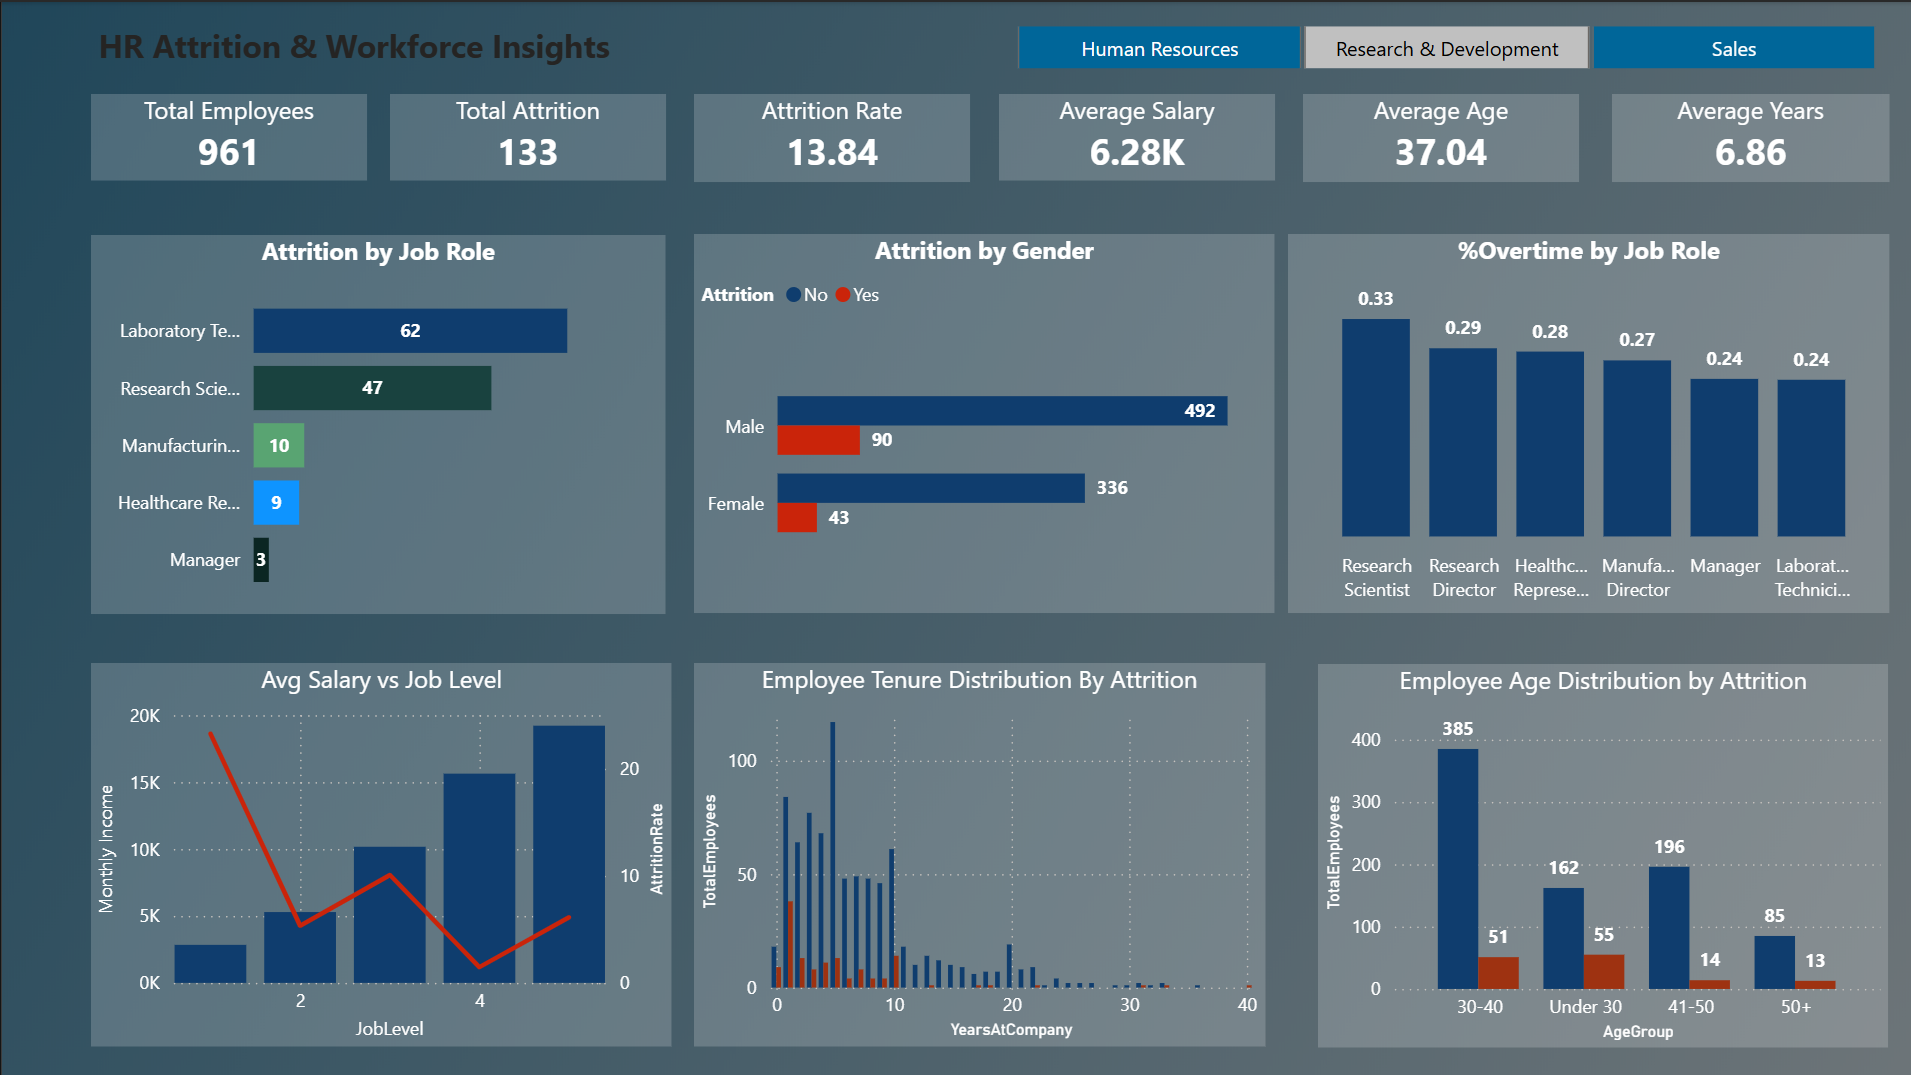

The dashboard page shown, as its layout file describes it:
{"tool":"powerbi","page":{"name":"HR attrition","canvas":[1280,720],"ordinal":0},"visuals":[{"type":"card","title":"Total Employees","fields":{"Values":["HR_DATA.TotalEmployees"]},"box":[59.7,61.4,184.9,57.9],"z":0},{"type":"card","title":"Attrition Rate","fields":{"Values":["HR_DATA.AttritionRate"]},"box":[463.6,61.4,184.9,58.8],"z":1000},{"type":"card","title":"Average Salary","fields":{"Values":["HR_DATA.AvgMonthlyIncome"]},"box":[668.1,61.4,184.9,57.9],"z":2000},{"type":"clusteredBarChart","title":"Attrition by Gender","fields":{"Category":["HR_DATA.Gender"],"Y":["HR_DATA.TotalEmployees"],"Series":["HR_DATA.Attrition"]},"box":[463.7,155.6,389.4,253.7],"z":3000},{"type":"barChart","title":"Attrition by Job Role","fields":{"Category":["HR_DATA.JobRole"],"Series":["HR_DATA.JobRole"],"Y":["Sum(HR_DATA.AttritionFlag)"]},"box":[59.7,156,385.2,254],"z":4000},{"type":"card","title":"Total Attrition","fields":{"Values":["HR_DATA.TotalAttrition"]},"box":[259.9,61.4,184.9,57.9],"z":5000},{"type":"card","title":"Average Years ","fields":{"Values":["HR_DATA.AvgYearsAtCompany"]},"box":[1078.9,61.4,185.8,58.8],"z":6000},{"type":"textbox","box":[59.8,9.2,543.4,42.2],"z":7000},{"type":"card","title":"Average Age","fields":{"Values":["HR_DATA.Average Age"]},"box":[871.8,61.4,184.9,58.8],"z":8000},{"type":"clusteredColumnChart","title":"%Overtime by Job Role","fields":{"Y":["HR_DATA.PercentOverTime"],"Category":["HR_DATA.JobRole"]},"box":[861.5,155.6,403.2,253.7],"z":9000},{"type":"lineClusteredColumnComboChart","title":"Avg Salary vs Job Level","fields":{"Y":["HR_DATA.AvgMonthlyIncome"],"Y2":["HR_DATA.AttritionRate"],"Category":["HR_DATA.Job Level Label"]},"box":[59.7,443.1,389.5,257.4],"z":10000},{"type":"clusteredColumnChart","title":"Employee Tenure Distribution By Attrition","fields":{"Category":["HR_DATA.YearsAtCompany"],"Y":["HR_DATA.TotalEmployees"],"Series":["HR_DATA.Attrition"]},"box":[463.6,443.1,382.6,256.5],"z":11000},{"type":"slicer","fields":{"Values":["HR_DATA.Department"]},"box":[654.6,9.2,625.4,42.2],"z":12000},{"type":"clusteredColumnChart","title":"Employee Age Distribution by Attrition","fields":{"Y":["HR_DATA.TotalEmployees"],"Series":["HR_DATA.Attrition"],"Category":["HR_DATA.AgeGroup"]},"box":[882.2,443.8,382.5,256.8],"z":13000}]}

Visuals, with their boxes in screenshot pixels (x1, y1, x2, y2), scaled from the page's 1280x720 canvas onto the 1911x1075 screenshot:
"Total Employees" card: Rect(89, 92, 365, 178)
"Attrition Rate" card: Rect(692, 92, 968, 179)
"Average Salary" card: Rect(997, 92, 1274, 178)
"Attrition by Gender" clusteredBarChart: Rect(692, 232, 1274, 611)
"Attrition by Job Role" barChart: Rect(89, 233, 664, 612)
"Total Attrition" card: Rect(388, 92, 664, 178)
"Average Years " card: Rect(1611, 92, 1888, 179)
textbox: Rect(89, 14, 901, 77)
"Average Age" card: Rect(1302, 92, 1578, 179)
"%Overtime by Job Role" clusteredColumnChart: Rect(1286, 232, 1888, 611)
"Avg Salary vs Job Level" lineClusteredColumnComboChart: Rect(89, 662, 671, 1046)
"Employee Tenure Distribution By Attrition" clusteredColumnChart: Rect(692, 662, 1263, 1045)
slicer - HR_DATA.Department: Rect(977, 14, 1910, 77)
"Employee Age Distribution by Attrition" clusteredColumnChart: Rect(1317, 663, 1888, 1046)
